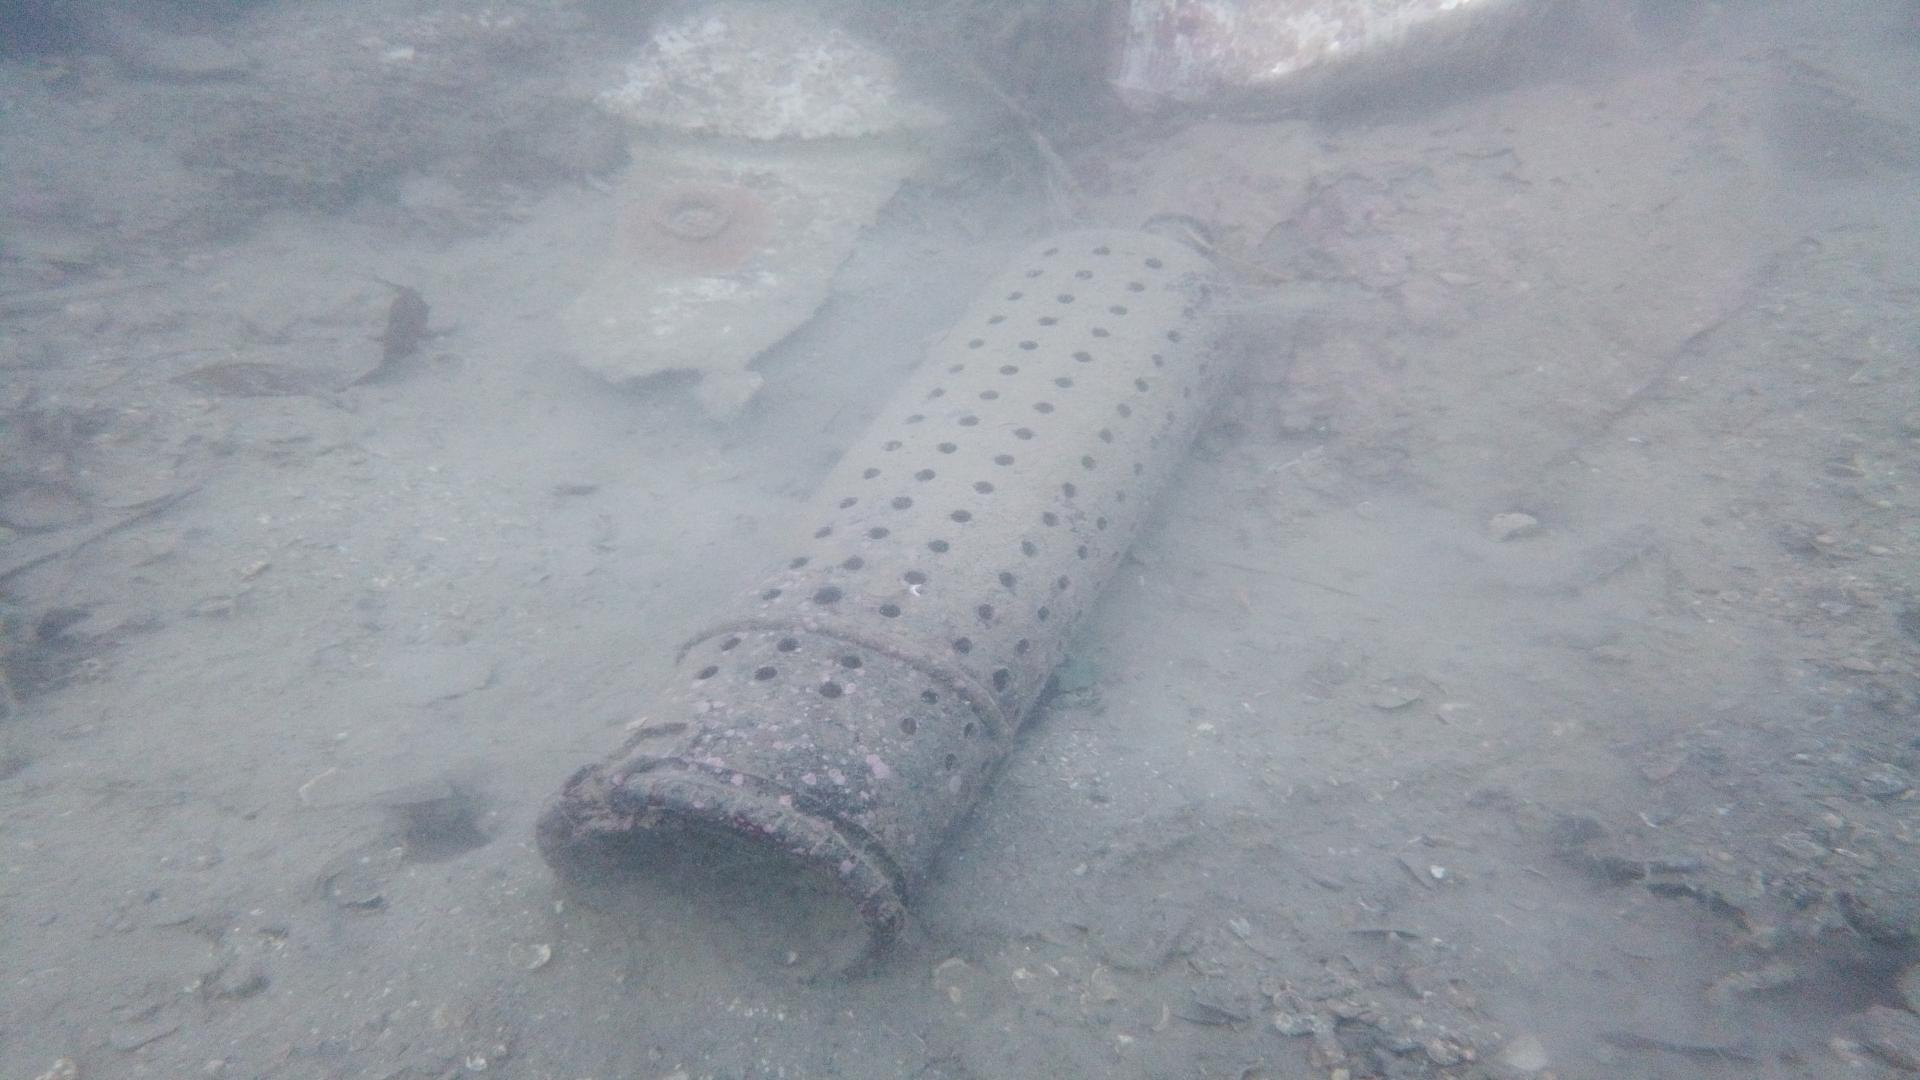eel fish trap: (535, 202, 1240, 976)
